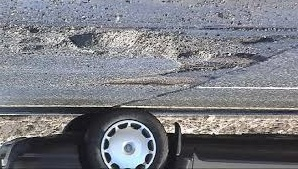pothole: (0, 24, 287, 73), (102, 72, 206, 92)
